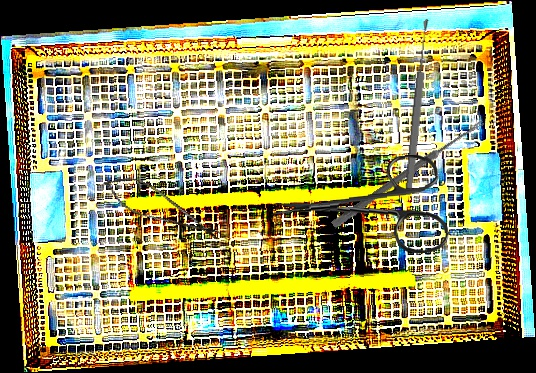Iris Scissors: (268, 153, 450, 261)
Micro Scissor: (97, 166, 227, 250)
Surgical Spoon: (330, 117, 486, 230), (403, 17, 432, 197)
